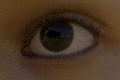eye: (40, 20, 74, 51)
